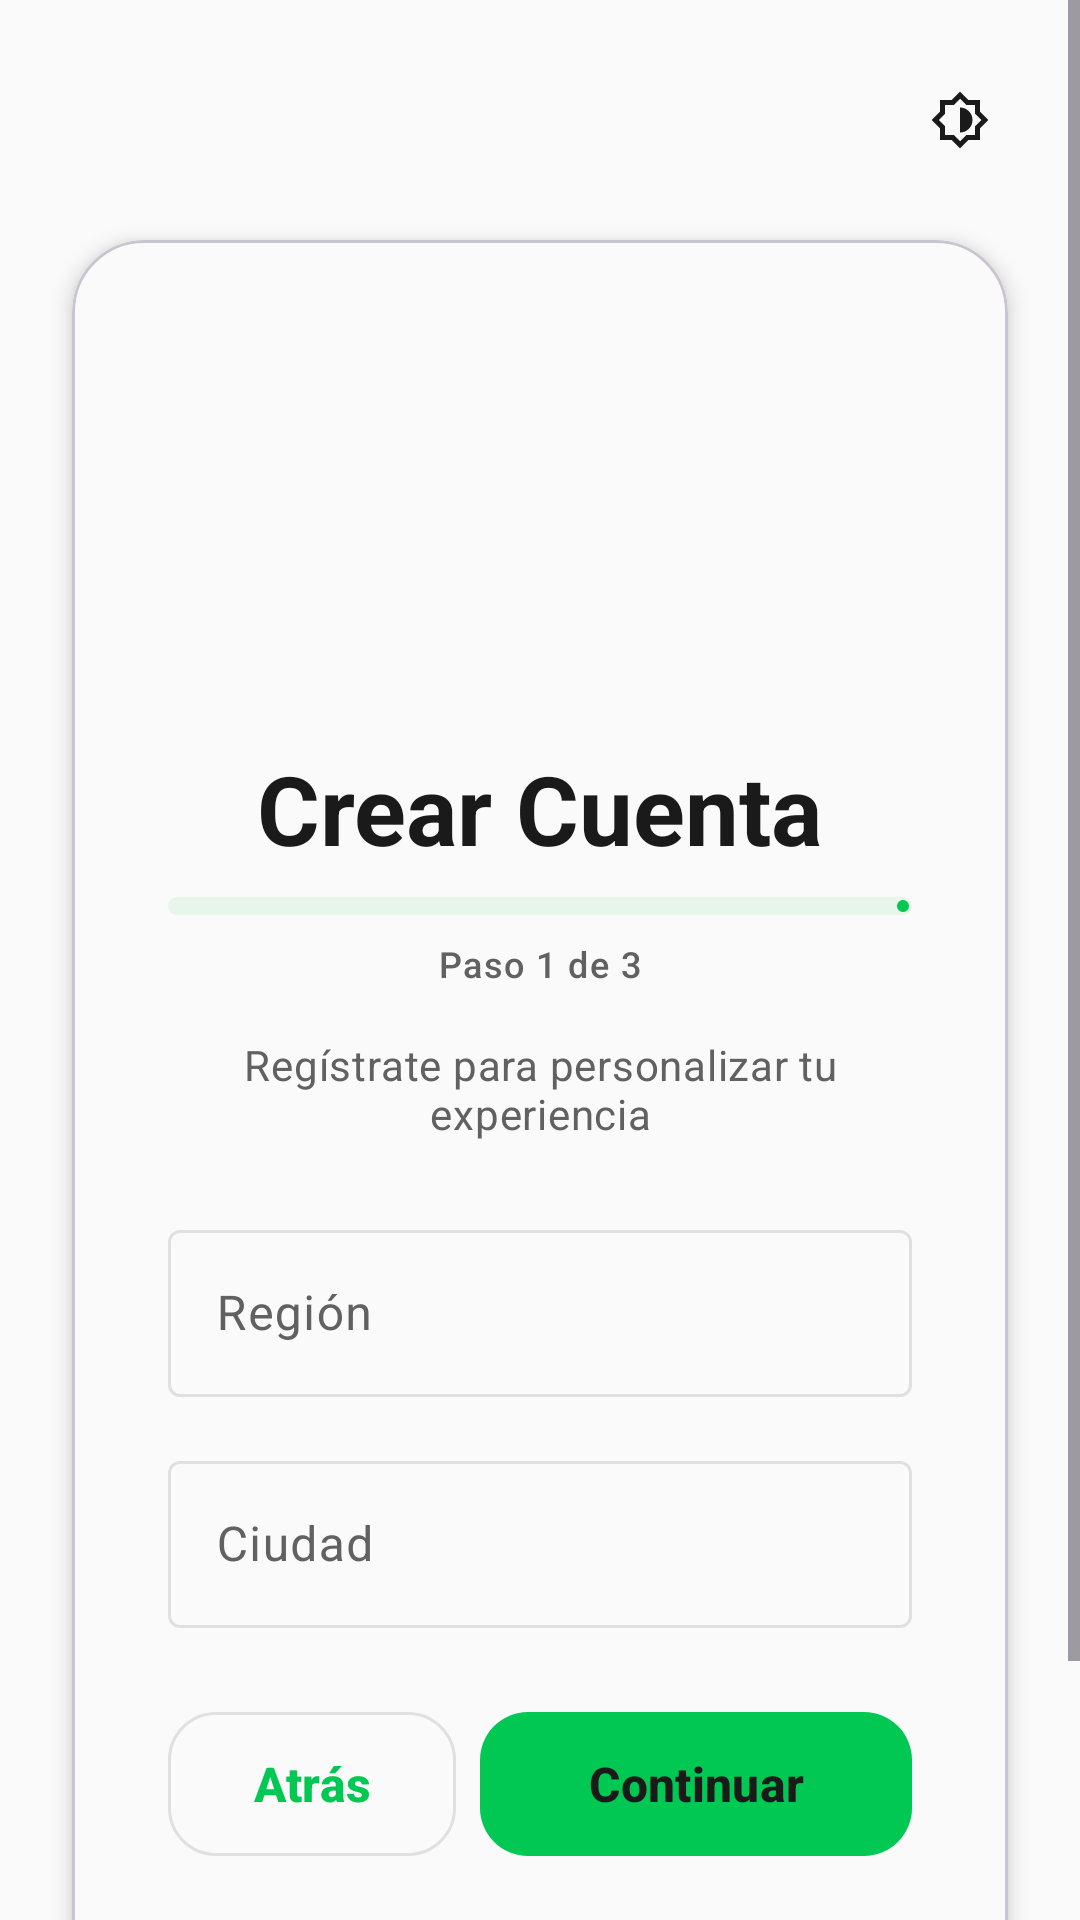

Where to tap for icons on this 1080px x 1920px app screen, as [x,y]:
Cambiar tema claro/oscuro: [960,120]
